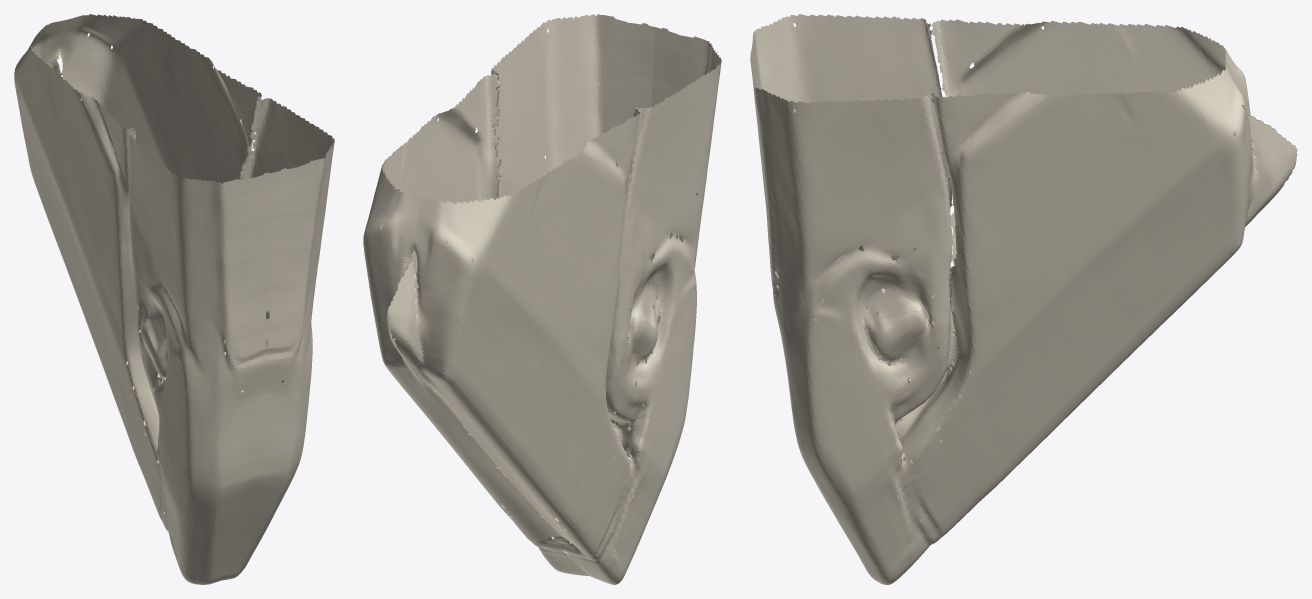
File: wanzer_leg_left_001_lower.glb
3 views of the same model, side by side, from view 1: azimuth 30°, elevation 25°; view 2: azimuth 150°, elevation 25°; view 3: azimuth 270°, elevation 25° (orthographic). The views are drawn at different scales.
Parts seen in each view (by area): view 1: geometry_0; view 2: geometry_0; view 3: geometry_0.
Part boxes in pixels (x1,y1,x2,y2): geometry_0: [14, 14, 334, 584]; geometry_0: [363, 14, 721, 584]; geometry_0: [750, 14, 1297, 584].
Bounding box in the file's own units: 0.4484 × 1.24 × 1.19.
